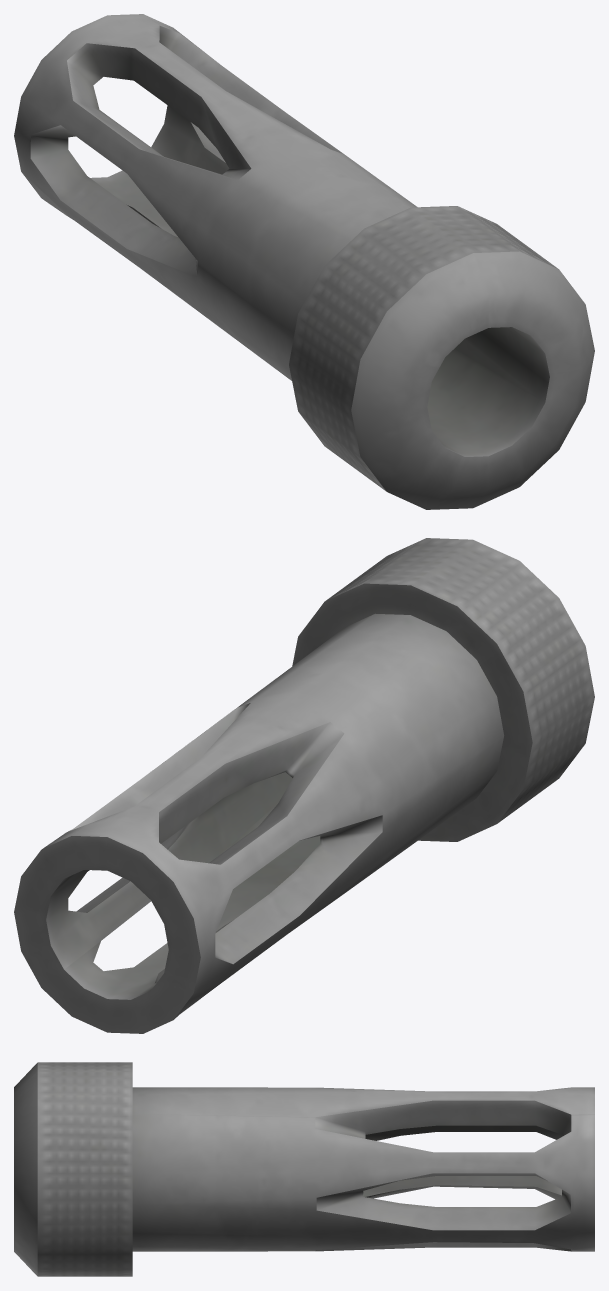
File: IG_Acc_Muzzle_SMG_REC_2.fbx
The picture shows the model from 3 angles, top to bottom: view 1: azimuth 30°, elevation 25°; view 2: azimuth 150°, elevation 25°; view 3: azimuth 270°, elevation 25°; orthographic projection. The views are drawn at different scales.
Parts seen in each view (by area): view 1: Muzzle_SMG_REC_2; view 2: Muzzle_SMG_REC_2; view 3: Muzzle_SMG_REC_2.
Boxes of the visible parts, <box> form: Muzzle_SMG_REC_2: <box>14,14,594,509</box>; Muzzle_SMG_REC_2: <box>14,538,594,1033</box>; Muzzle_SMG_REC_2: <box>14,1062,594,1276</box>.
Bounding box in the file's own units: 0.0734 × 0.0734 × 0.1986.
